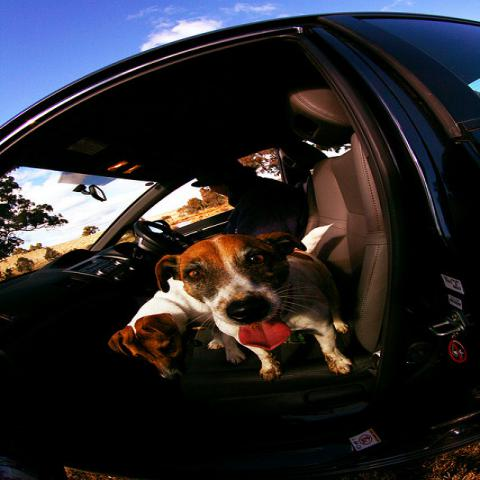car: (1, 8, 479, 474)
